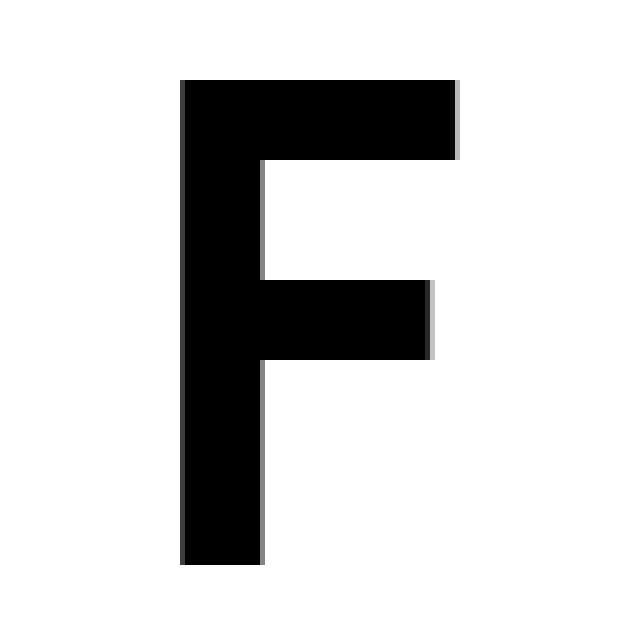F: (170, 75, 460, 565)
